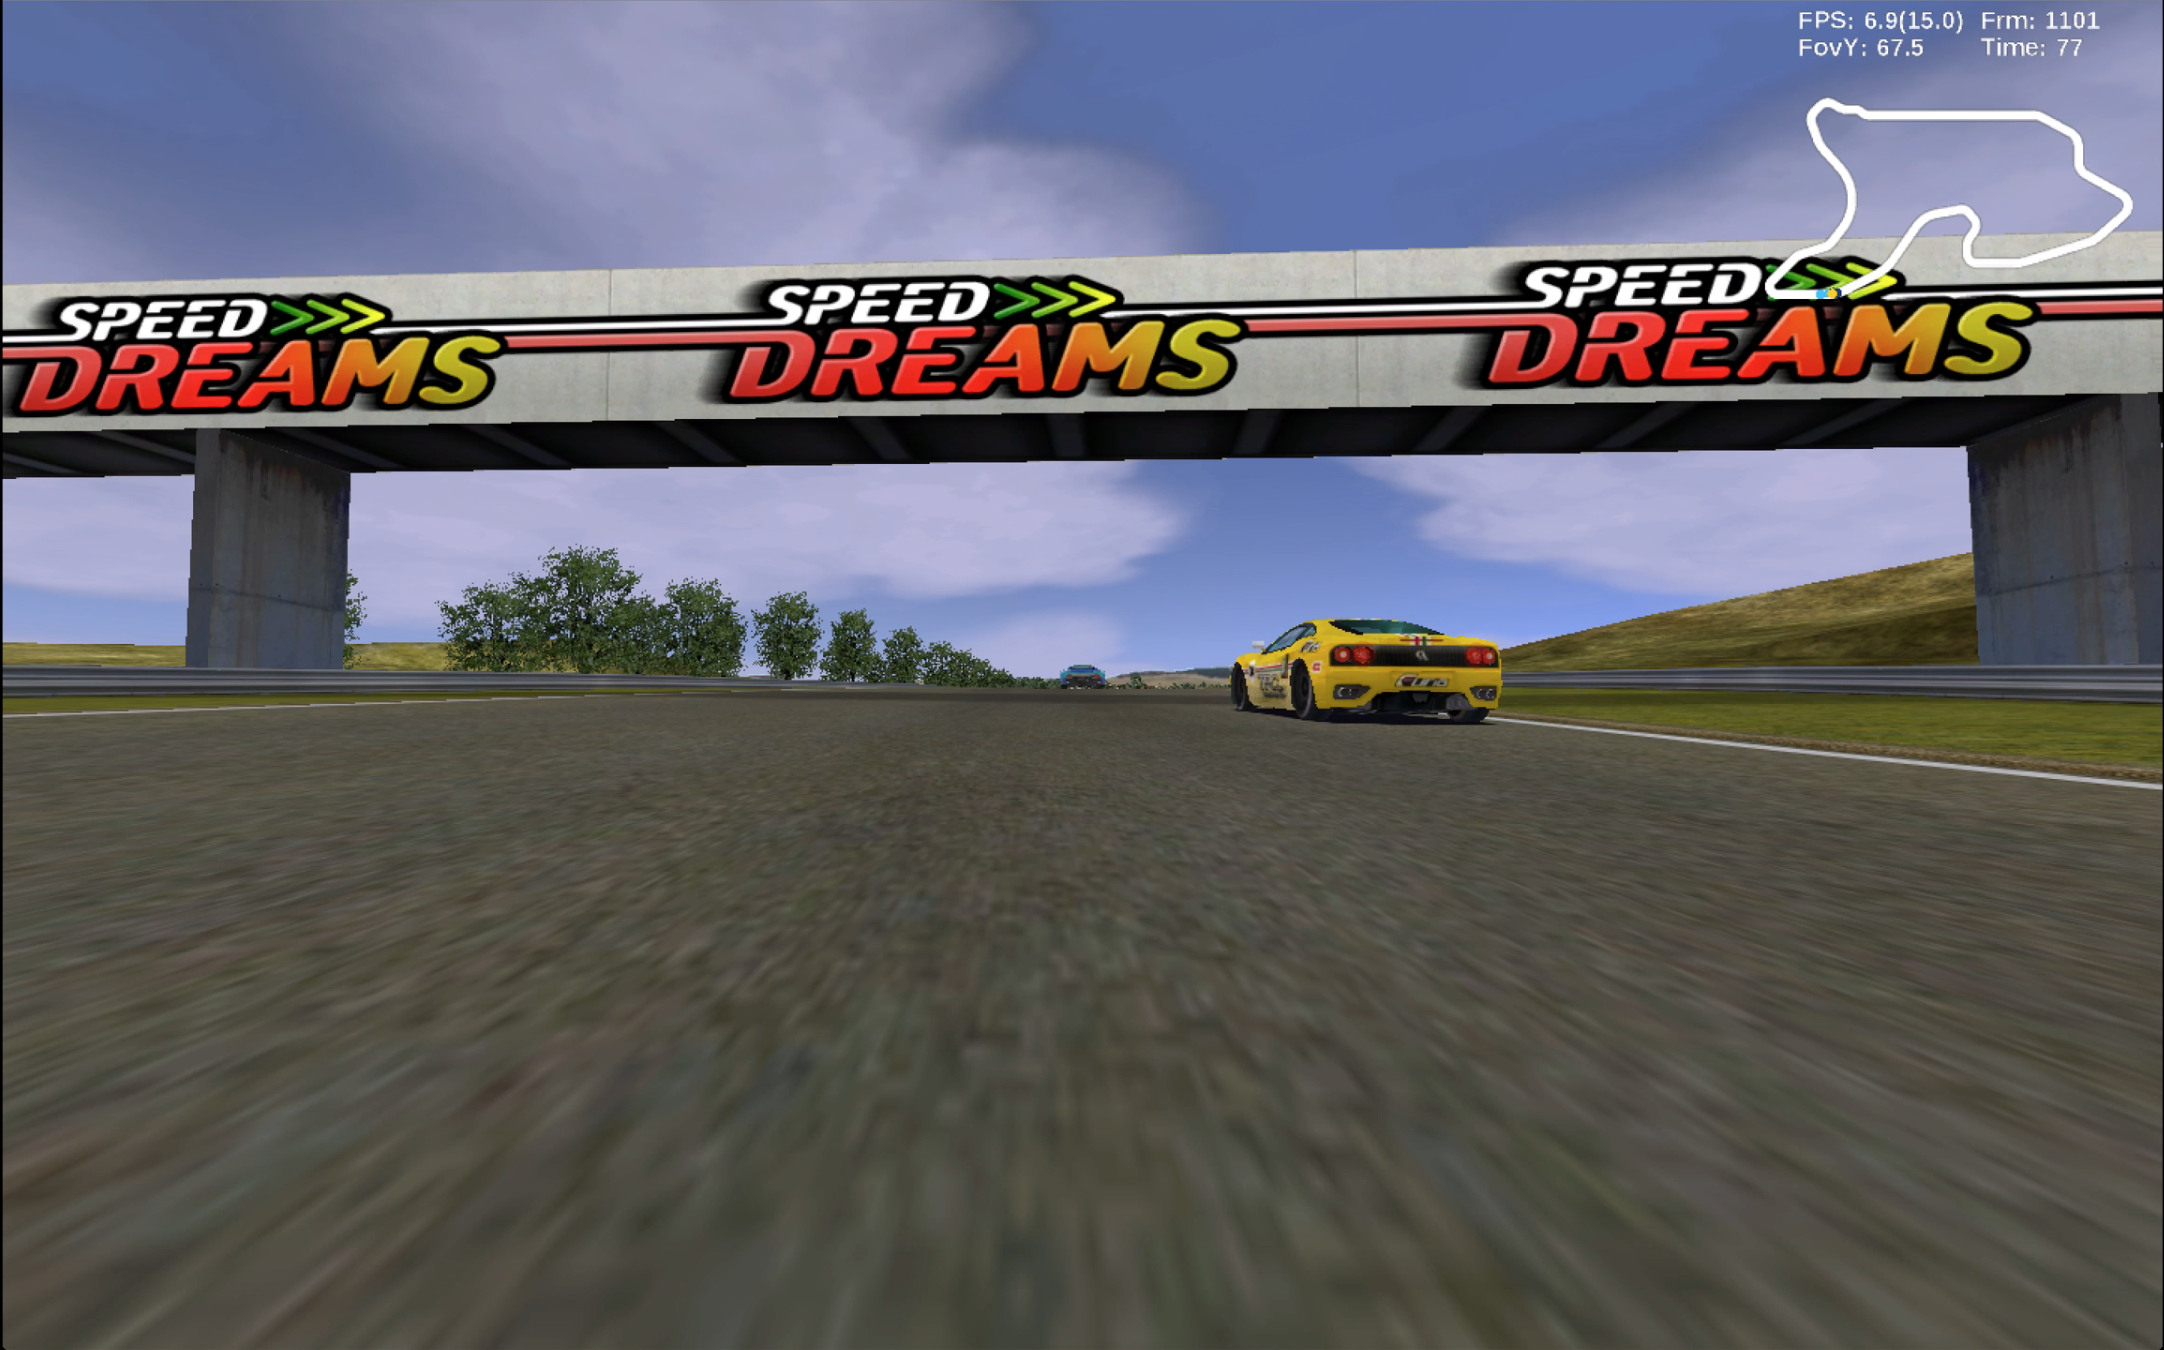Cavallo360: (1231, 617, 1503, 726)
Lynx220: (1060, 664, 1107, 692)
